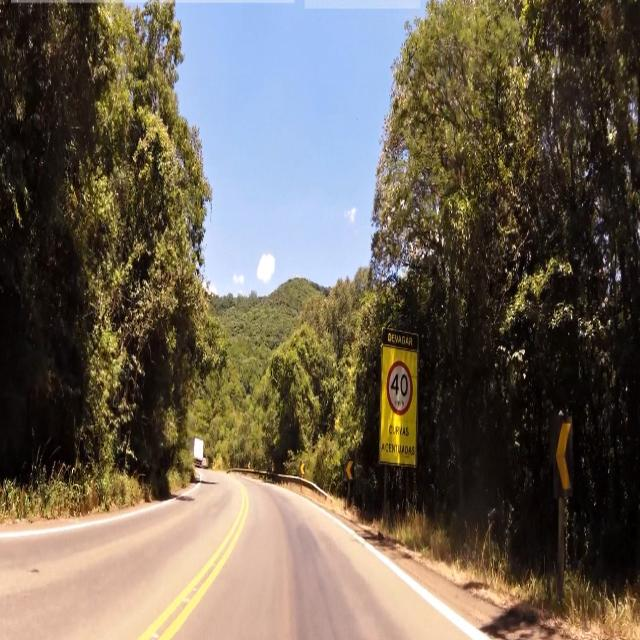Del: (548, 412, 581, 506)
R-19: (386, 355, 414, 423)
